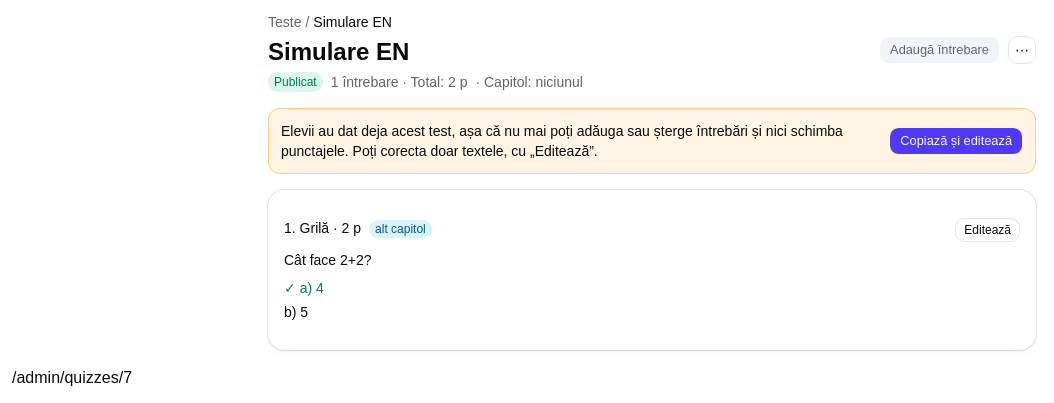
Test case: AdminQuizzesPage › un test dat deja de elevi › says so up front and locks what the server would refuse
Expected: the element with test id "quiz-taken" shows "Elevii au dat deja acest test", [281,123,843,159]
Expected: the button "Adaugă întrebare" is disabled, [879,36,1000,64]
Click the button named "Mai multe acțiuni pentru Simulare EN".
click(1022, 50)  # box [1008,36,1036,64]
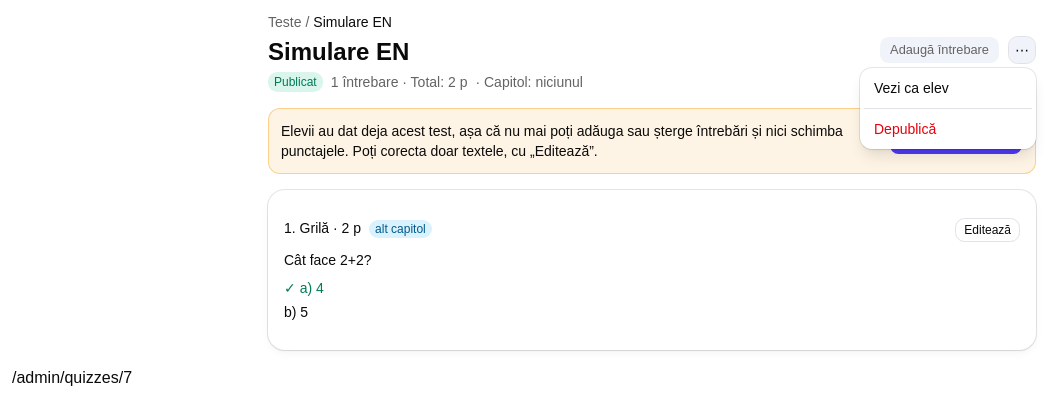
Expected: the menu item "Vezi ca elev" is shown, [874,80,949,96]
